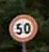limite 50: (8, 13, 39, 43)
